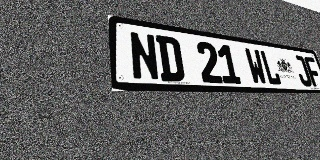1: (215, 43, 241, 84)
2: (195, 41, 223, 83)
D: (155, 35, 186, 82)
F: (303, 56, 320, 87)
J: (292, 55, 313, 86)
L: (259, 50, 282, 85)
N: (128, 31, 160, 81)
W: (244, 48, 268, 85)
